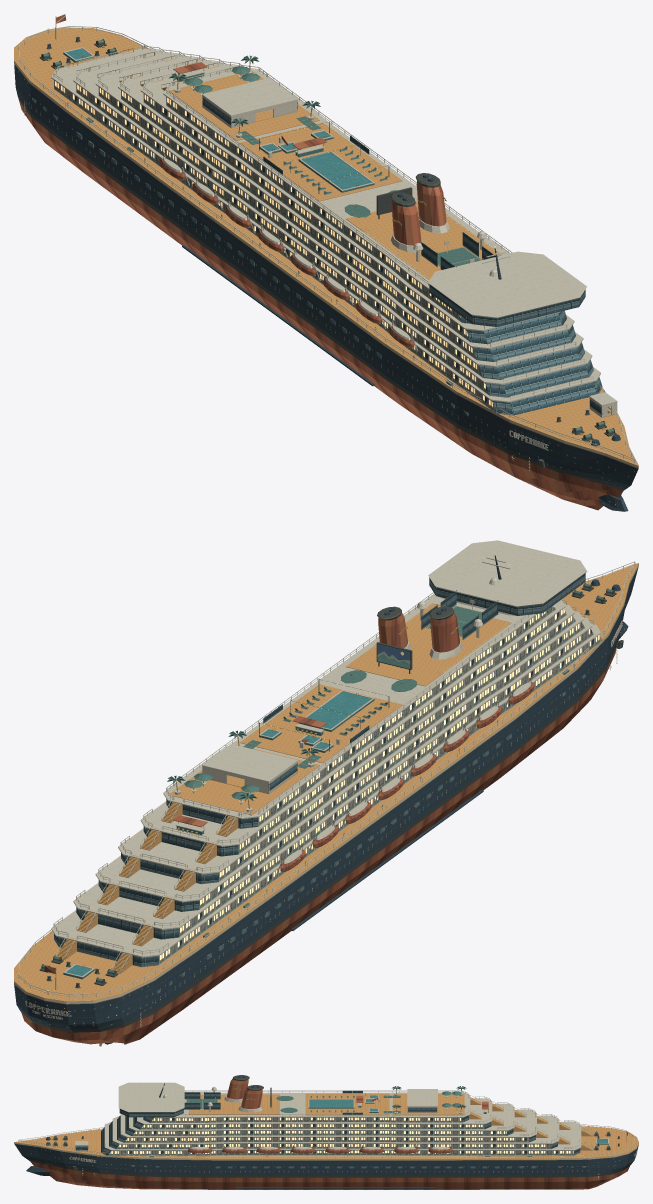
File: copperwake.glb
3 views of the same model, one above another, from view 1: azimuth 30°, elevation 25°; view 2: azimuth 150°, elevation 25°; view 3: azimuth 270°, elevation 25° (orthographic). The views are drawn at different scales.
Visible parts, largest first — view 1: hull, marine_hardware, public_spaces, deck_06, deck_07, passenger_decks, deck_08, deck_10, deck_05, deck_09, observation_lounge, main_pool; view 2: hull, marine_hardware, public_spaces, deck_10, deck_06, deck_07, passenger_decks, deck_08, deck_09, deck_05, observation_lounge, main_pool; view 3: hull, marine_hardware, deck_07, public_spaces, deck_06, deck_10, deck_08, deck_05, deck_09, passenger_decks, observation_lounge, main_pool.
Part boxes in pixels (box(x1,y1,x2,y2)): hull: box(14, 27, 638, 511); marine_hardware: box(18, 14, 635, 461); public_spaces: box(169, 62, 502, 279); deck_06: box(73, 52, 593, 397); deck_07: box(95, 56, 584, 379); passenger_decks: box(428, 251, 586, 326); deck_08: box(118, 60, 575, 361); deck_10: box(163, 69, 509, 323); deck_05: box(51, 48, 602, 415); deck_09: box(140, 64, 566, 344); observation_lounge: box(202, 78, 297, 127); main_pool: box(298, 151, 374, 192); hull: box(14, 563, 638, 1044); marine_hardware: box(18, 555, 635, 1046); public_spaces: box(169, 603, 512, 835); deck_10: box(163, 594, 555, 828); deck_06: box(73, 617, 593, 939); deck_07: box(95, 610, 584, 911); passenger_decks: box(428, 540, 586, 615); deck_08: box(118, 604, 575, 884); deck_09: box(140, 599, 566, 856); deck_05: box(51, 623, 602, 967); observation_lounge: box(202, 744, 297, 793); main_pool: box(298, 690, 374, 731); hull: box(14, 1126, 638, 1189); marine_hardware: box(18, 1075, 634, 1188); deck_07: box(117, 1110, 536, 1142); public_spaces: box(186, 1087, 488, 1115); deck_06: box(109, 1115, 559, 1149); deck_10: box(143, 1092, 470, 1122); deck_08: box(125, 1104, 514, 1136); deck_05: box(101, 1121, 581, 1155); deck_09: box(133, 1098, 492, 1129); passenger_decks: box(118, 1082, 184, 1117); observation_lounge: box(407, 1089, 437, 1112); main_pool: box(308, 1099, 354, 1108).
Size of the model in its own units: 39.26 by 54.5 by 309.
12 materials, 12 textured.
